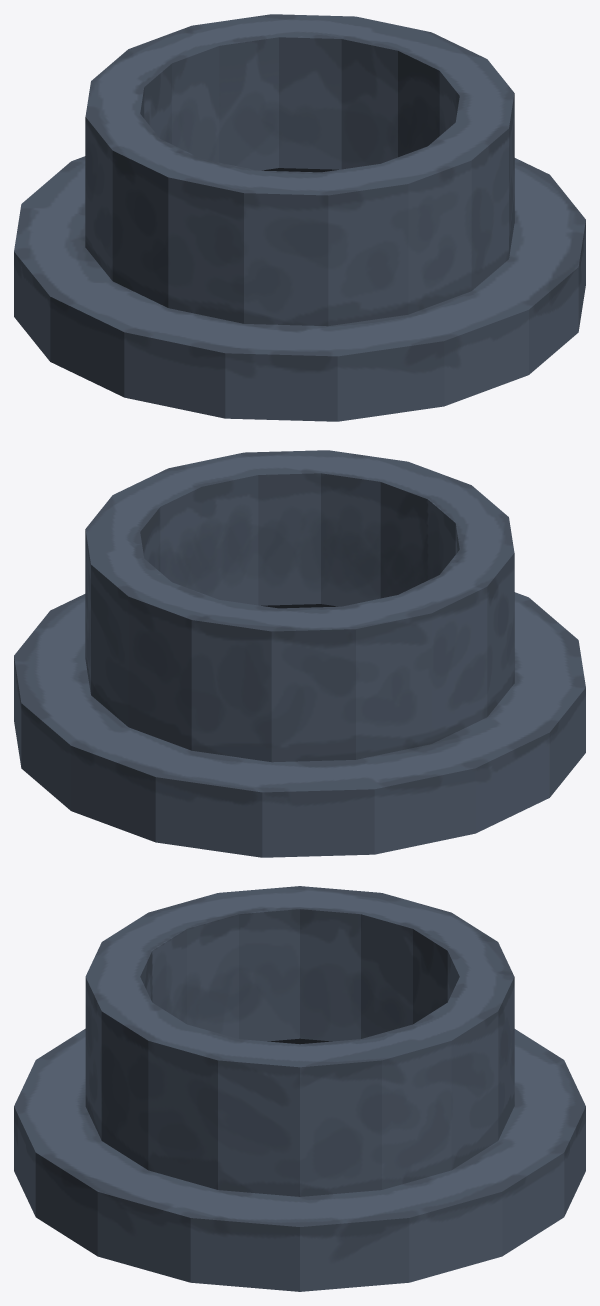
Rendered from well.fbx.
3 renders of one model, top to bottom at view 1: azimuth 30°, elevation 25°; view 2: azimuth 150°, elevation 25°; view 3: azimuth 270°, elevation 25°, orthographic.
Visible parts, largest first — view 1: Cylinder; view 2: Cylinder; view 3: Cylinder.
Boxes of the visible parts, x1,y1,x2,y2 form: Cylinder: [14, 14, 585, 421]; Cylinder: [14, 450, 585, 857]; Cylinder: [14, 886, 585, 1291].
Size of the model in its own units: 800 by 300 by 800.
